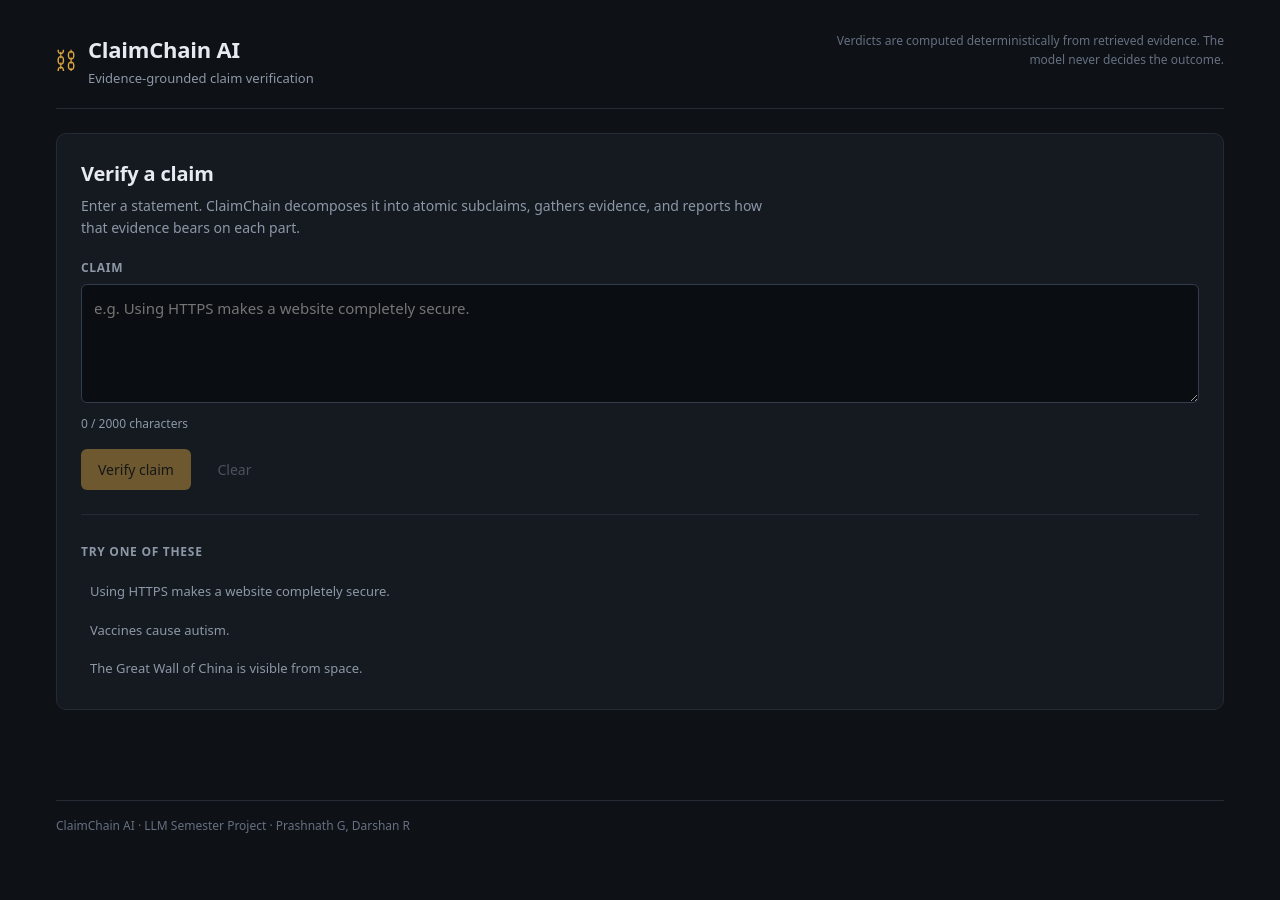
it: App › shows an error state when the backend is unreachable
Type "Using HTTPS makes a website completely secure." into the text box at x=640, y=343, box [81,284,1199,403]
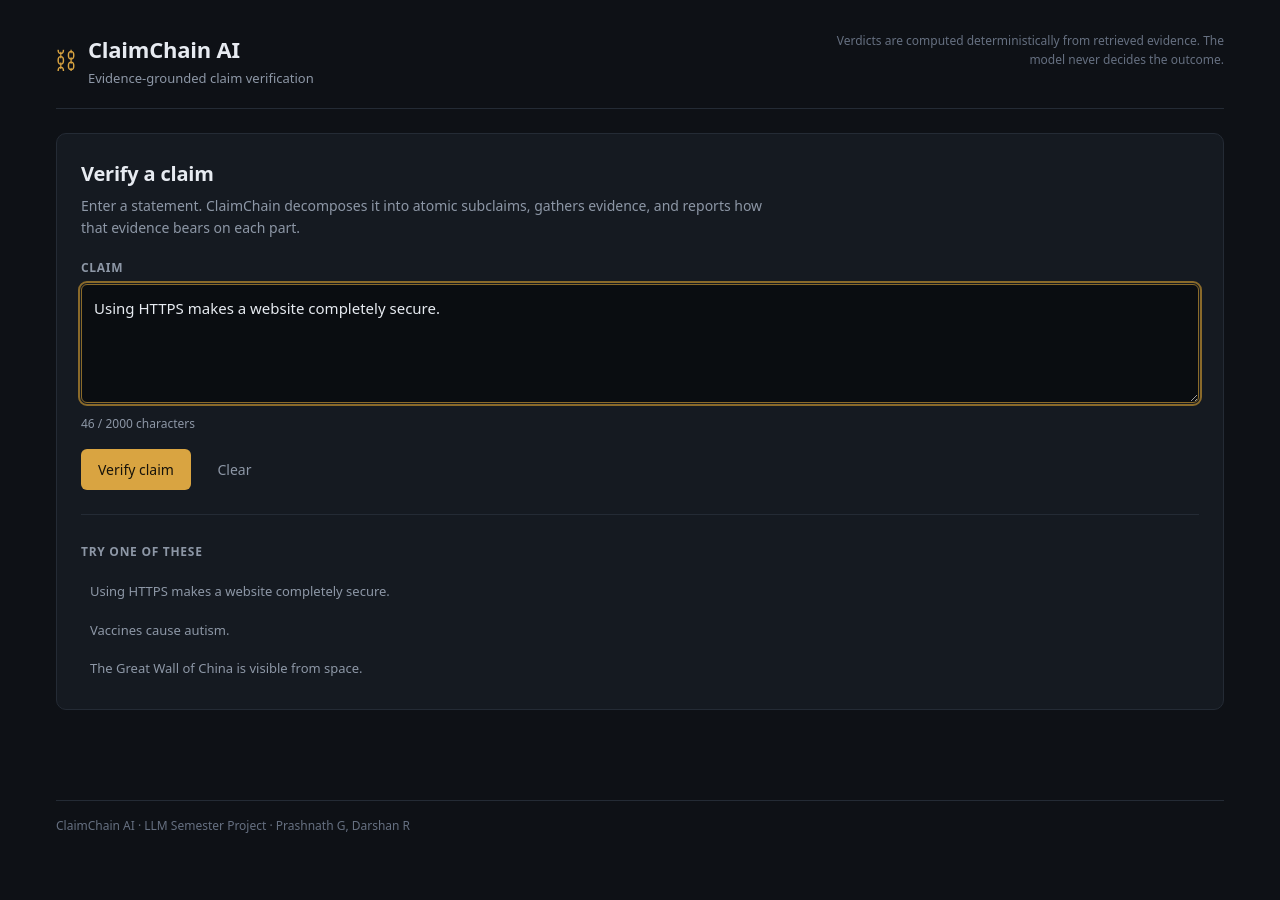
Click the button "Verify claim" at x=136, y=470, box [81,449,191,490]
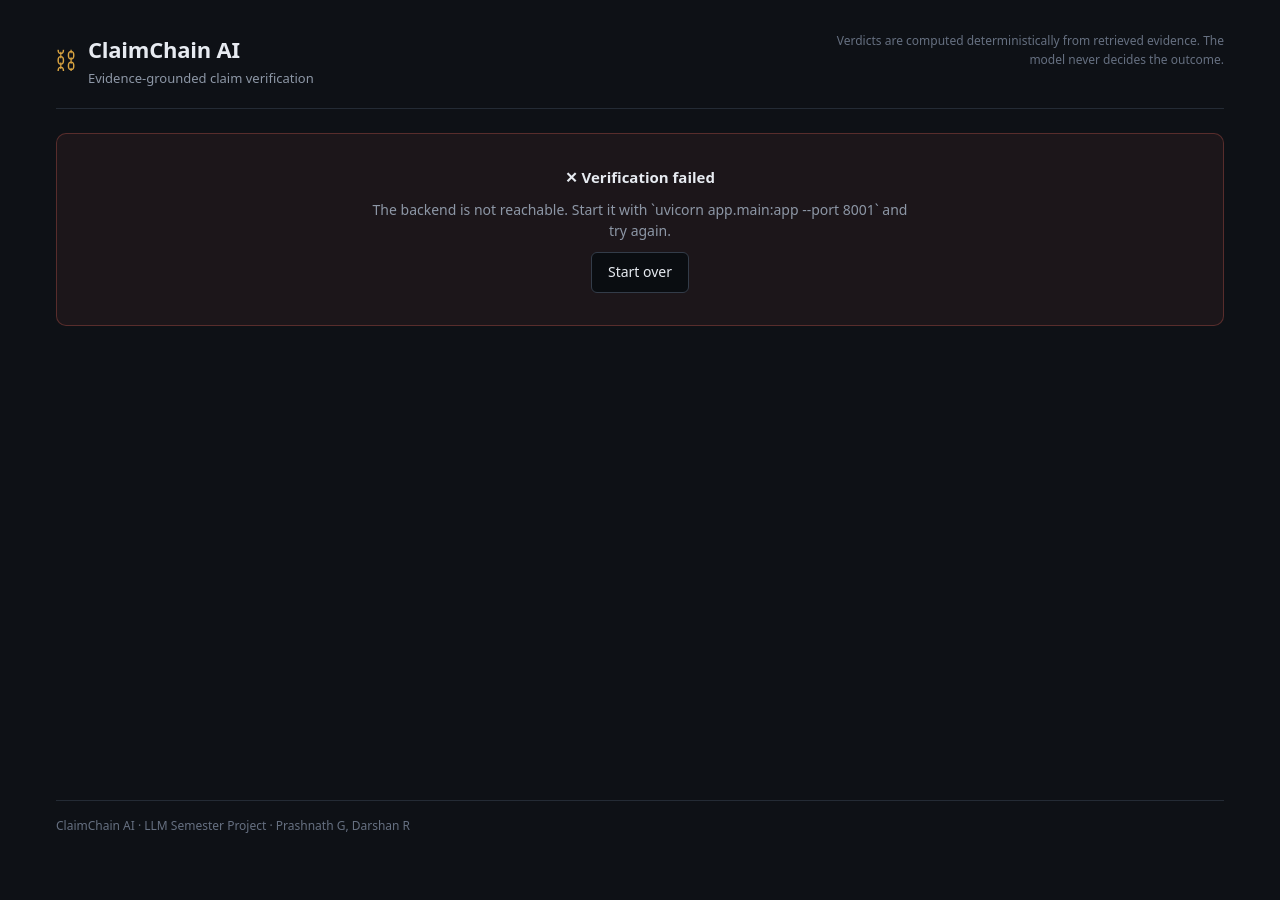
Now the message is shown, box [56,133,1224,326]
Now the text "✕ Verification failed" is shown, box [565,166,715,189]
Now the text "backend is not reachable" is shown, box [372,200,907,240]
